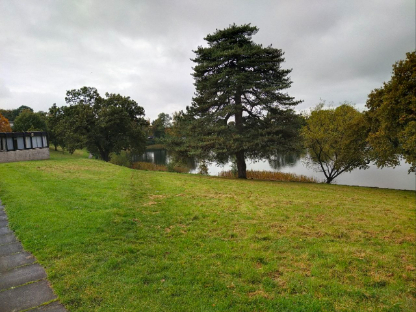tree: (180, 17, 300, 188), (45, 80, 148, 168), (294, 94, 370, 188), (360, 52, 416, 169)
